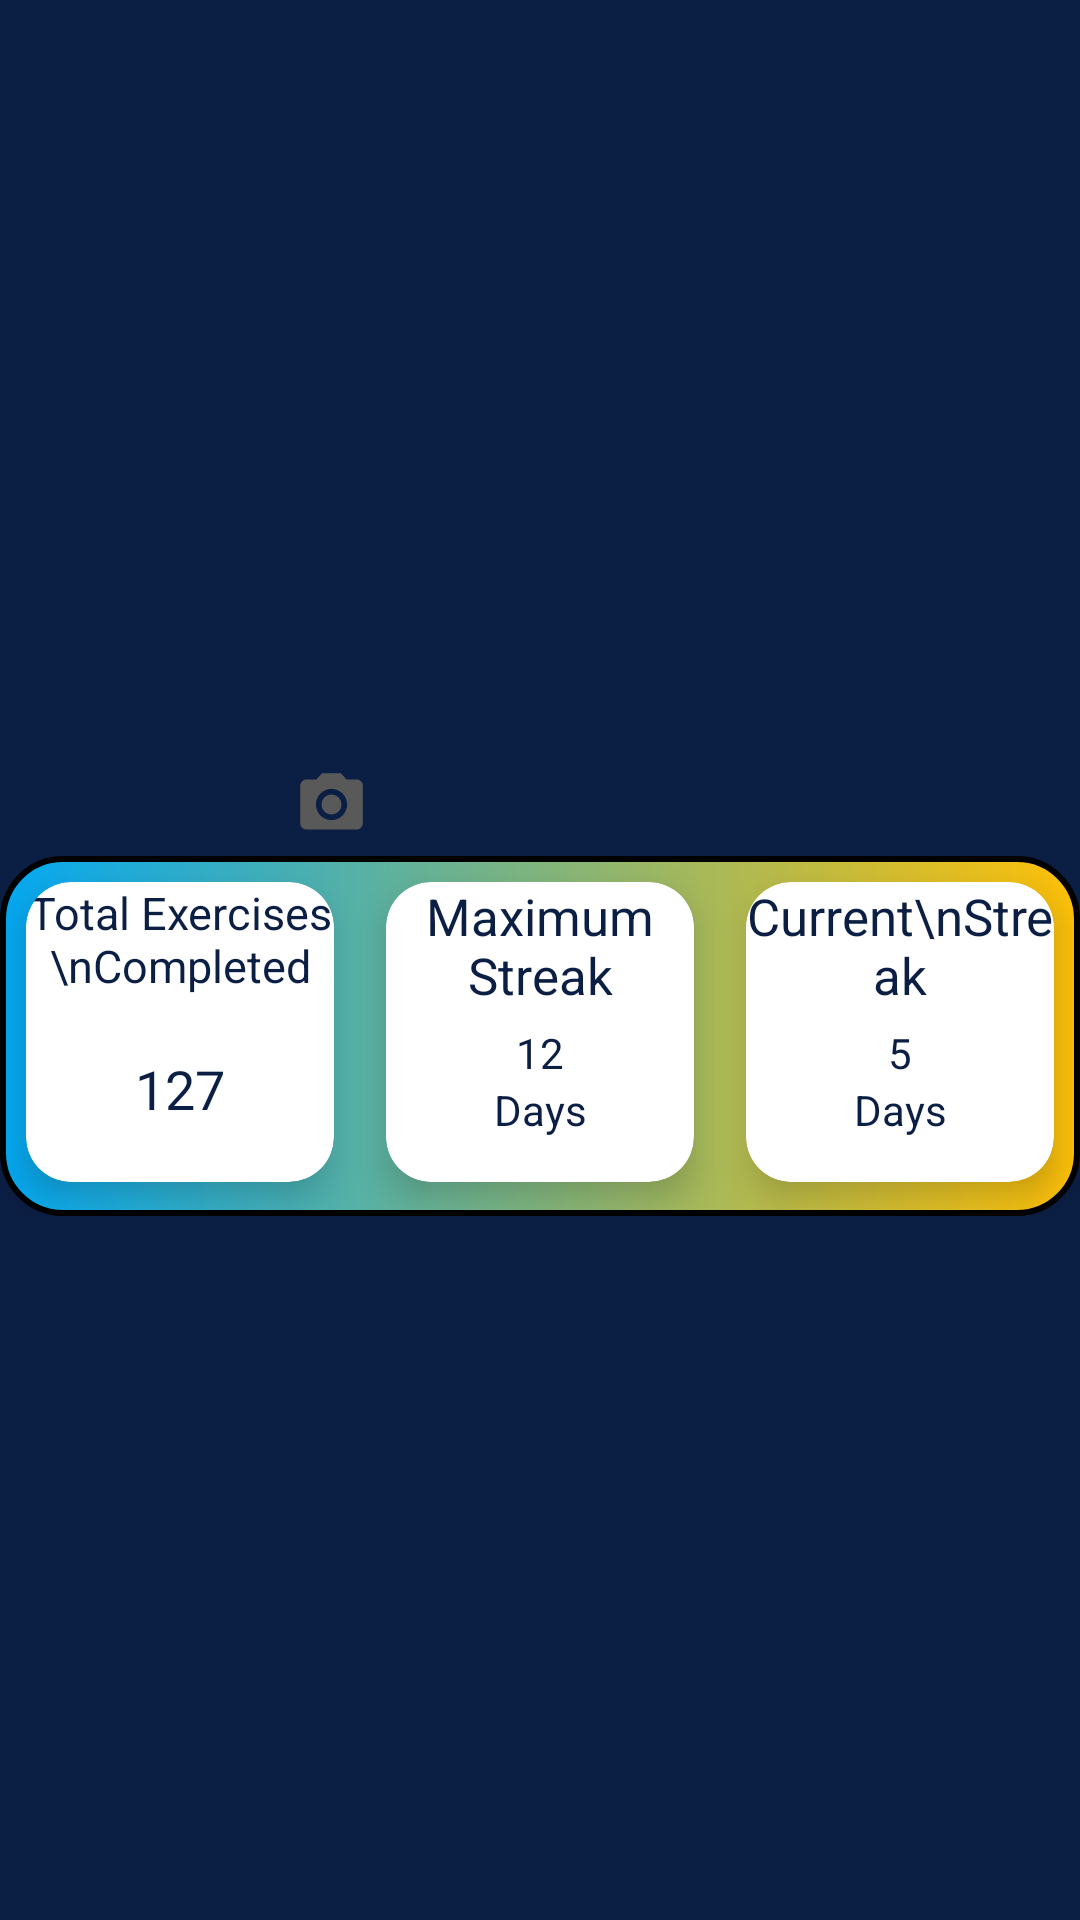

Icons on this 1080px x 1920px Android screen, each with the point to tap as point (x, y):
camera: point (331, 801)
